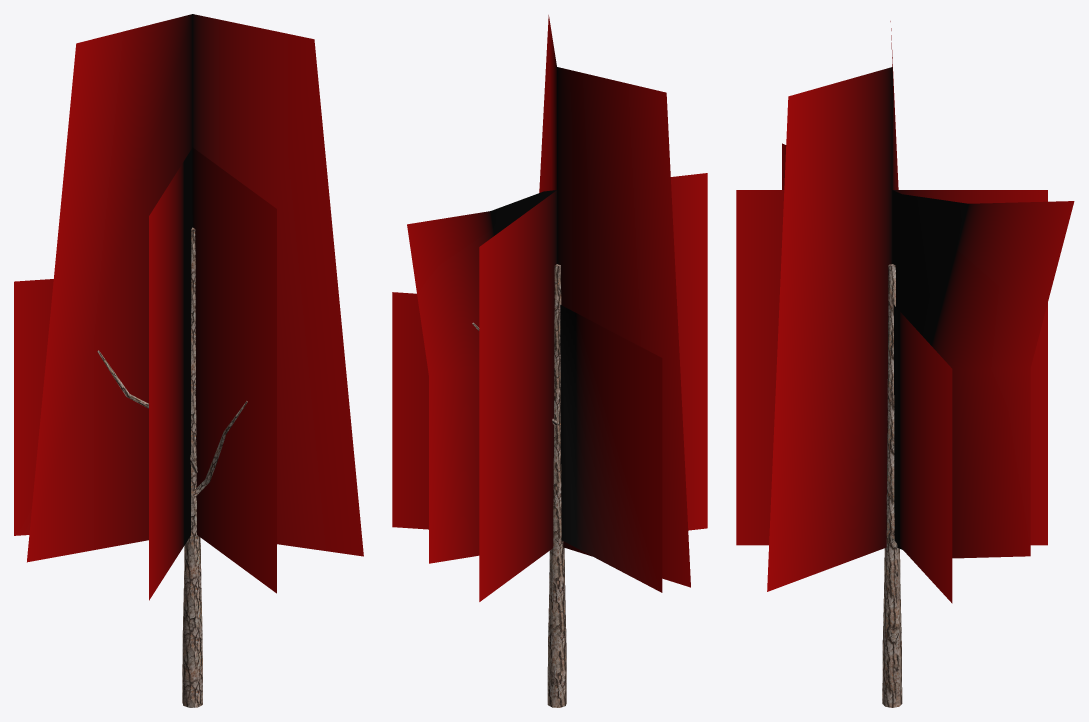
File: SM_FOL_Pine_A_01.fbx
3 views of the same model, side by side, from view 1: azimuth 30°, elevation 25°; view 2: azimuth 150°, elevation 25°; view 3: azimuth 270°, elevation 25° (orthographic). The views are drawn at different scales.
Parts seen in each view (by area): view 1: SM_FOL_Pine_A_01; view 2: SM_FOL_Pine_A_01; view 3: SM_FOL_Pine_A_01.
Boxes of the visible parts, <box> form: SM_FOL_Pine_A_01: <box>14,14,363,707</box>; SM_FOL_Pine_A_01: <box>392,15,707,707</box>; SM_FOL_Pine_A_01: <box>736,21,1074,707</box>.
Size of the model in its own units: 714 by 751 by 1561.
